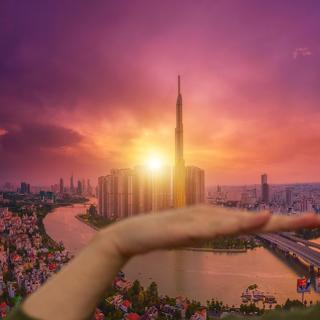WAIT: (102, 197, 320, 256)
